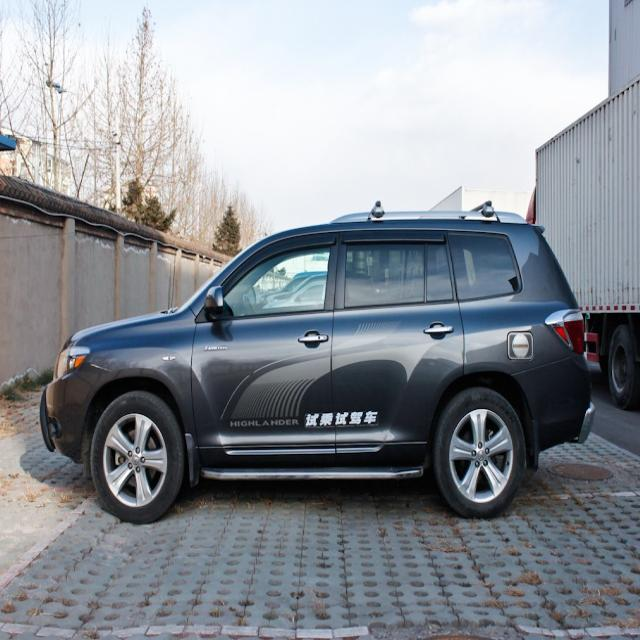back_left_side_light: (538, 296, 593, 374)
door: (334, 228, 462, 473)
front_left_side_door: (183, 218, 345, 484)
front_left_side_light: (44, 334, 98, 404)
front_left_side_mirror: (194, 273, 233, 334)
wheel: (86, 383, 192, 531), (431, 381, 533, 531)
